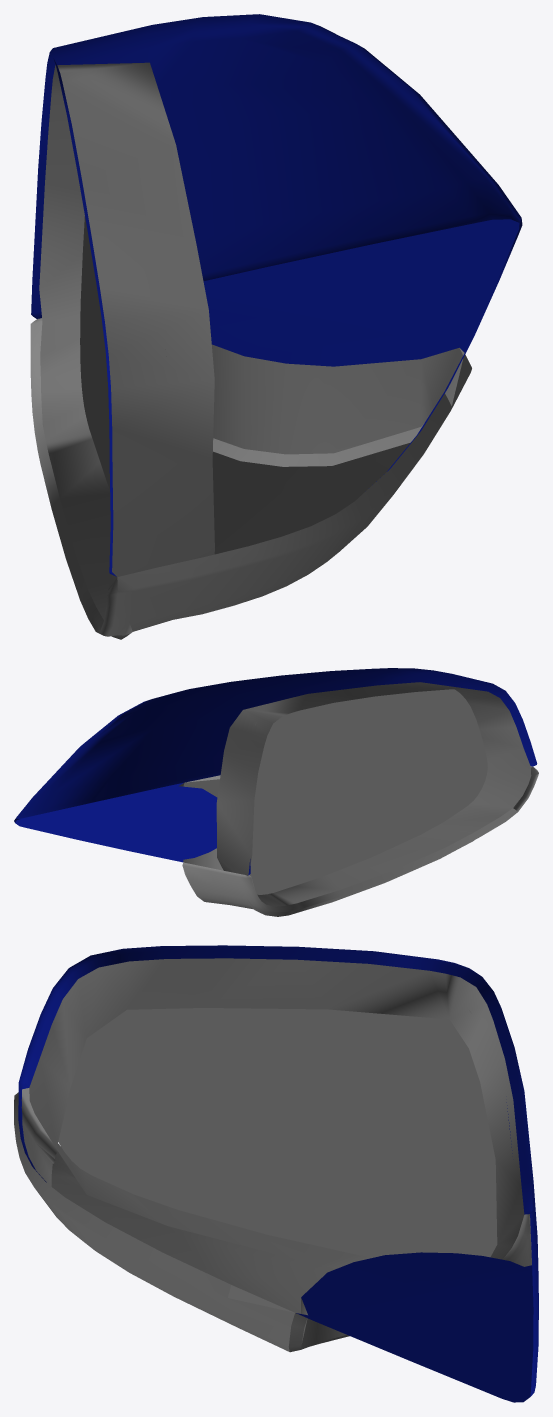
Rendered from Door_RF_Mirror.obj.
3 views of the same model, one above another, from view 1: azimuth 30°, elevation 25°; view 2: azimuth 150°, elevation 25°; view 3: azimuth 270°, elevation 25° (orthographic). The views are drawn at different scales.
Parts seen in each view (by area): view 1: Door_RF_Mirror; view 2: Door_RF_Mirror; view 3: Door_RF_Mirror.
Boxes of the visible parts, x1,y1,x2,y2 form: Door_RF_Mirror: (30, 14, 522, 639); Door_RF_Mirror: (14, 668, 538, 916); Door_RF_Mirror: (14, 945, 538, 1402).
Size of the model in its own units: 0.2555 by 0.1413 by 0.2042.
